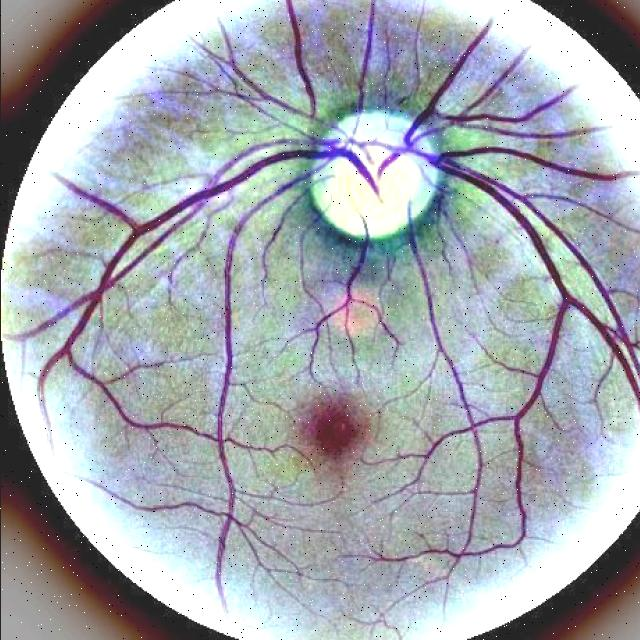Macula: (304, 396, 363, 459)
Nerves: (225, 0, 577, 384), (454, 171, 640, 540), (88, 150, 333, 305), (255, 171, 313, 211)
Optic Disk: (310, 111, 440, 239)
